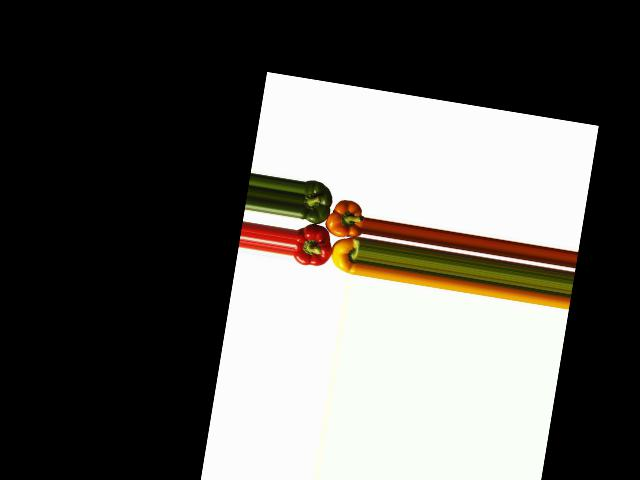bell_pepper: (326, 230, 362, 276)
